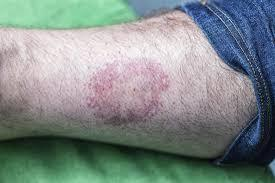Tick: (84, 56, 171, 126)
